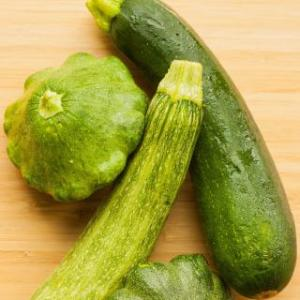zucchini: (172, 4, 298, 300)
